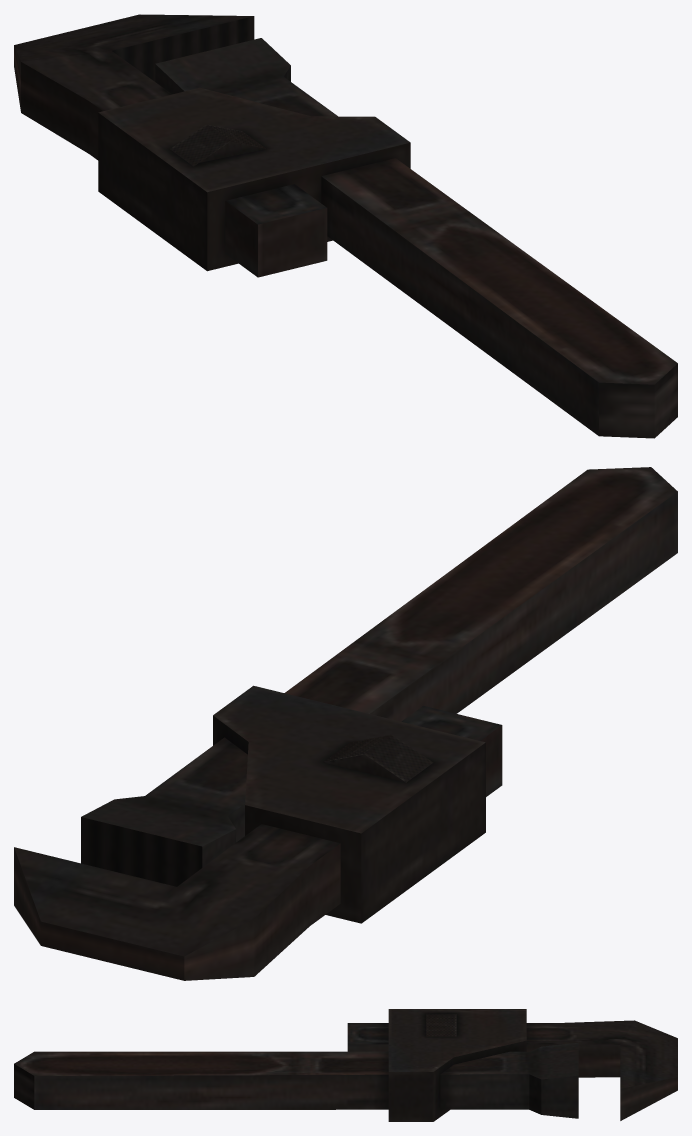
The model's file is wrench.FBX.
3 views of the same model, one above another, from view 1: azimuth 30°, elevation 25°; view 2: azimuth 150°, elevation 25°; view 3: azimuth 270°, elevation 25° (orthographic). The views are drawn at different scales.
Visible parts, largest first — view 1: Box001; view 2: Box001; view 3: Box001.
Part boxes in pixels (x1,y1,x2,y2): Box001: (14,14,677,438); Box001: (14,467,677,980); Box001: (14,1009,677,1121).
Size of the model in its own units: 291 by 133 by 1147.
